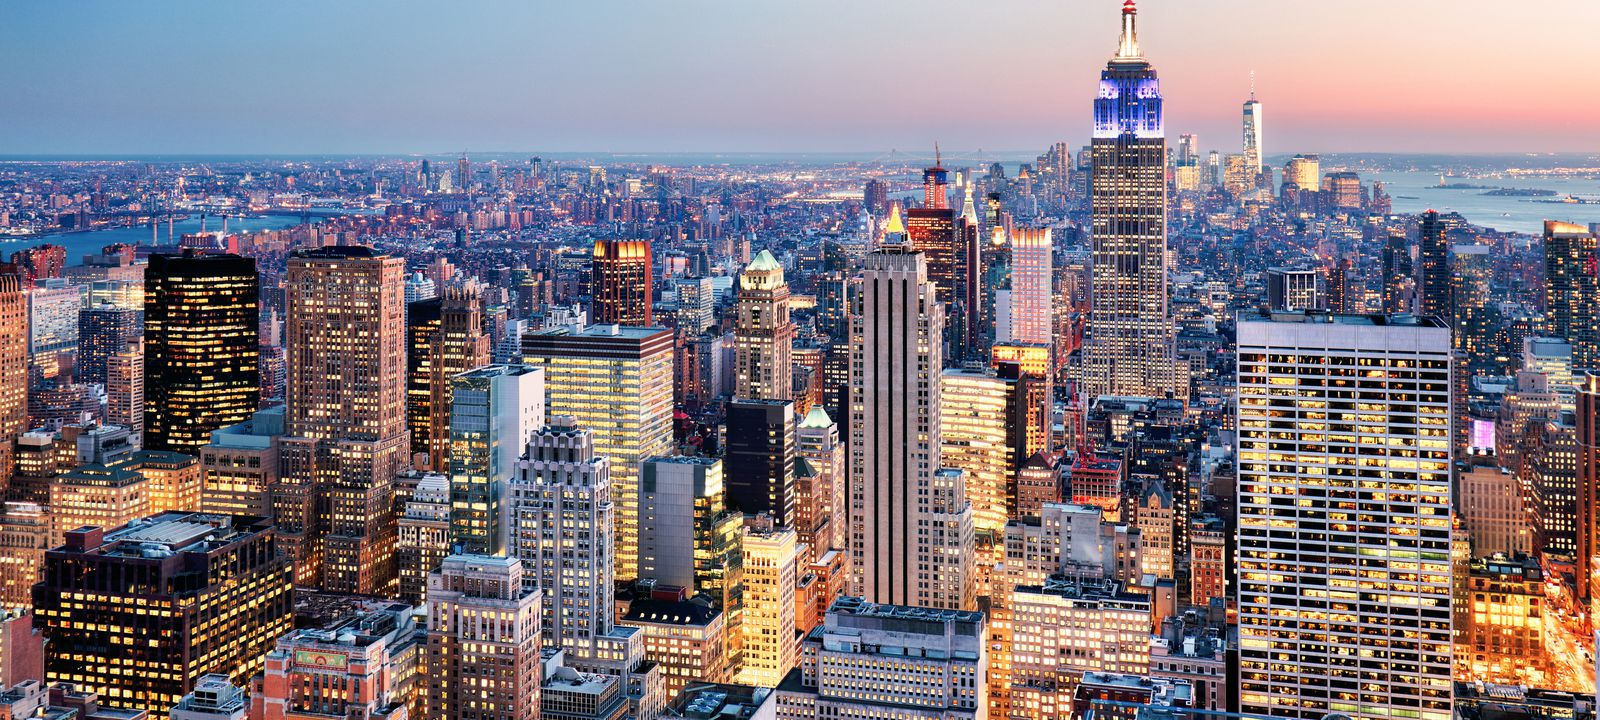wtc: (1241, 68, 1264, 175)
